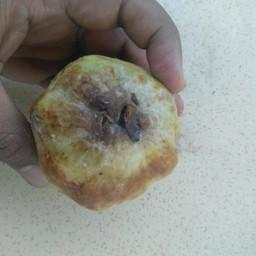Bad_guava: (30, 55, 180, 211)
